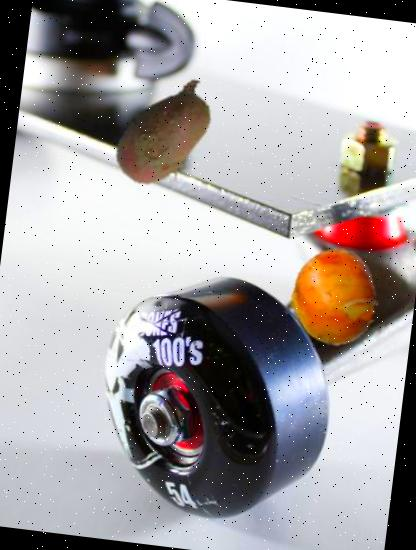Onion: (278, 242, 388, 353)
Potato: (98, 64, 236, 202)
